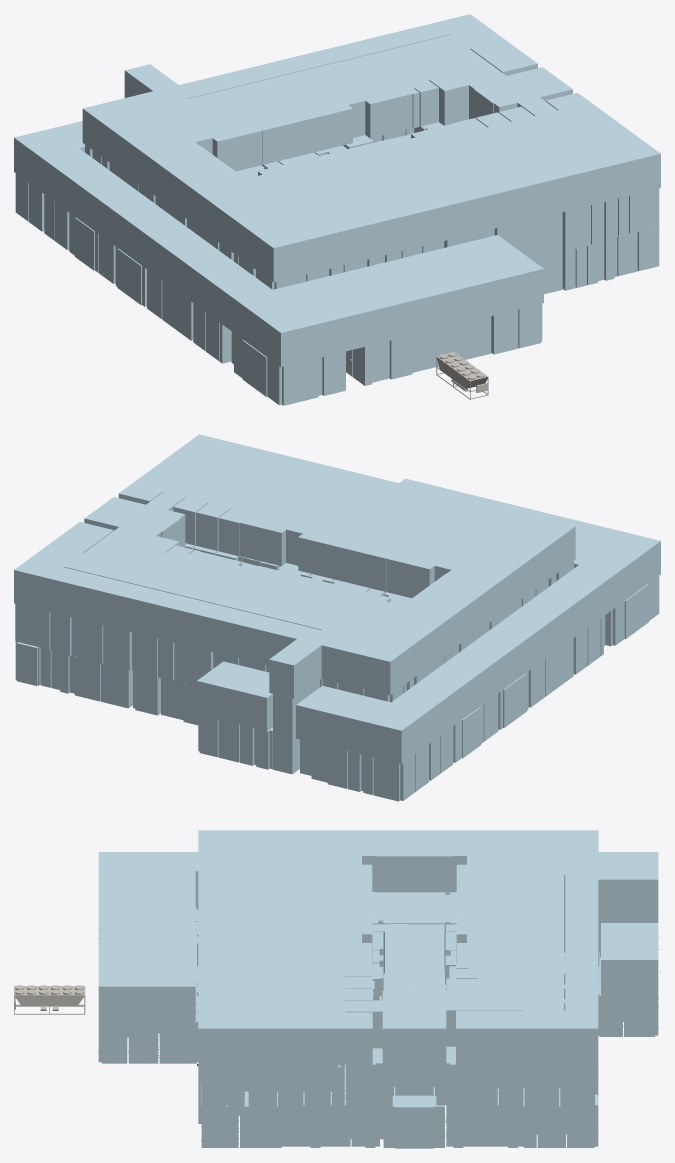
3 renders of one model, top to bottom at view 1: azimuth 30°, elevation 25°; view 2: azimuth 150°, elevation 25°; view 3: azimuth 270°, elevation 25°, orthographic. The views are drawn at different scales.
Visible parts, largest first — view 1: 2VHACsgD1E4Q6$j_TZzvLT, 2VHACsgD1E4Q6$j_TZzvKk, 30C8Tgpln5Khj3mpxiujV5, 30C8Tgpln5Khj3mpxiujVr, 2VHACsgD1E4Q6$j_TZzvLU, 30C8Tgpln5Khj3mpxiujsB, 2H3wYxUIPBpw3mjj9GlAnl, 30C8Tgpln5Khj3mpxiujVD, 2VHACsgD1E4Q6$j_TZzvLS, 30C8Tgpln5Khj3mpxiujUf, 30C8Tgpln5Khj3mpxiujUl, 30C8Tgpln5Khj3mpxiujHT (+16 smaller); view 2: 2VHACsgD1E4Q6$j_TZzvLT, 2VHACsgD1E4Q6$j_TZzvKk, 2VHACsgD1E4Q6$j_TZzvLG, 2VHACsgD1E4Q6$j_TZzvLU, 30C8Tgpln5Khj3mpxiujVr, 30C8Tgpln5Khj3mpxiujUJ, 30C8Tgpln5Khj3mpxiujh3, 30C8Tgpln5Khj3mpxiujHx, 30C8Tgpln5Khj3mpxiujGD, 30C8Tgpln5Khj3mpxiujUf, 30C8Tgpln5Khj3mpxiujHT, 30C8Tgpln5Khj3mpxiujhP (+26 smaller); view 3: 2VHACsgD1E4Q6$j_TZzvLT, 2VHACsgD1E4Q6$j_TZzvKk, 2VHACsgD1E4Q6$j_TZzvLU, 30C8Tgpln5Khj3mpxiujSx, 2VHACsgD1E4Q6$j_TZzvLG, 30C8Tgpln5Khj3mpxiujGn, 30C8Tgpln5Khj3mpxiujGb, 30C8Tgpln5Khj3mpxiujs1, 30C8Tgpln5Khj3mpxiujeN, 30C8Tgpln5Khj3mpxiujhD, 30C8Tgpln5Khj3mpxiujfT, 2H3wYxUIPBpw3mjj9GlAnl (+23 smaller).
Part boxes in pixels (x1,y1,x2,y2): 2VHACsgD1E4Q6$j_TZzvLT: [82, 14, 660, 282]; 2VHACsgD1E4Q6$j_TZzvKk: [14, 121, 543, 367]; 30C8Tgpln5Khj3mpxiujV5: [389, 316, 491, 379]; 30C8Tgpln5Khj3mpxiujVr: [234, 333, 318, 405]; 2VHACsgD1E4Q6$j_TZzvLU: [469, 67, 572, 119]; 30C8Tgpln5Khj3mpxiujsB: [513, 212, 562, 258]; 2H3wYxUIPBpw3mjj9GlAnl: [436, 352, 488, 399]; 30C8Tgpln5Khj3mpxiujVD: [352, 341, 389, 385]; 2VHACsgD1E4Q6$j_TZzvLS: [440, 72, 506, 125]; 30C8Tgpln5Khj3mpxiujUf: [115, 247, 146, 306]; 30C8Tgpln5Khj3mpxiujUl: [162, 281, 193, 340]; 30C8Tgpln5Khj3mpxiujHT: [69, 212, 98, 272]; 2VHACsgD1E4Q6$j_TZzvLT: [14, 434, 575, 698]; 2VHACsgD1E4Q6$j_TZzvKk: [296, 478, 660, 763]; 2VHACsgD1E4Q6$j_TZzvLG: [197, 661, 272, 731]; 2VHACsgD1E4Q6$j_TZzvLU: [84, 497, 185, 547]; 30C8Tgpln5Khj3mpxiujVr: [605, 576, 659, 646]; 30C8Tgpln5Khj3mpxiujUJ: [373, 754, 415, 801]; 30C8Tgpln5Khj3mpxiujh3: [15, 604, 50, 649]; 30C8Tgpln5Khj3mpxiujHx: [240, 725, 272, 769]; 30C8Tgpln5Khj3mpxiujGD: [101, 663, 132, 708]; 30C8Tgpln5Khj3mpxiujUf: [498, 671, 528, 729]; 30C8Tgpln5Khj3mpxiujHT: [453, 704, 483, 762]; 30C8Tgpln5Khj3mpxiujhP: [103, 625, 131, 670]; 2VHACsgD1E4Q6$j_TZzvLT: [198, 830, 658, 1064]; 2VHACsgD1E4Q6$j_TZzvKk: [98, 852, 658, 1022]; 2VHACsgD1E4Q6$j_TZzvLU: [382, 990, 446, 1086]; 30C8Tgpln5Khj3mpxiujSx: [240, 1091, 350, 1147]; 2VHACsgD1E4Q6$j_TZzvLG: [601, 923, 658, 995]; 30C8Tgpln5Khj3mpxiujGn: [446, 1093, 536, 1147]; 30C8Tgpln5Khj3mpxiujGb: [380, 1087, 444, 1148]; 30C8Tgpln5Khj3mpxiujs1: [384, 931, 444, 984]; 30C8Tgpln5Khj3mpxiujeN: [372, 892, 456, 965]; 30C8Tgpln5Khj3mpxiujhD: [435, 1046, 497, 1106]; 30C8Tgpln5Khj3mpxiujfT: [346, 1048, 393, 1106]; 2H3wYxUIPBpw3mjj9GlAnl: [14, 985, 85, 1014].
Bounding box in the file's own units: 52.59 × 14.47 × 65.15.
